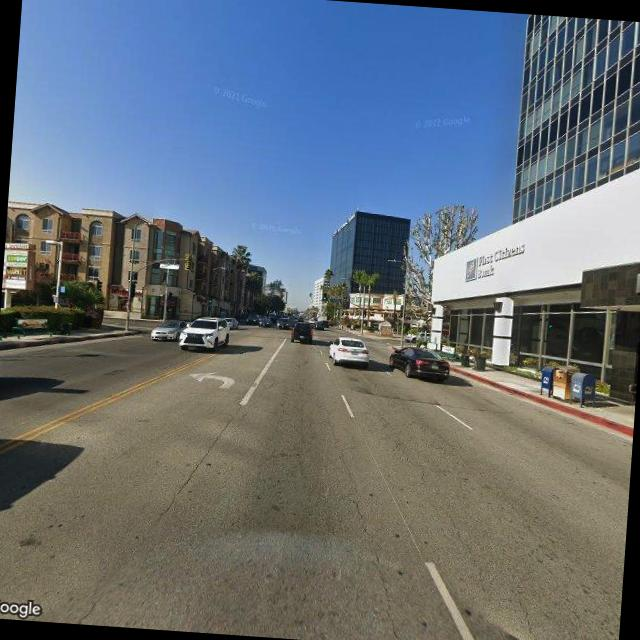crack: (327, 484, 424, 640)
